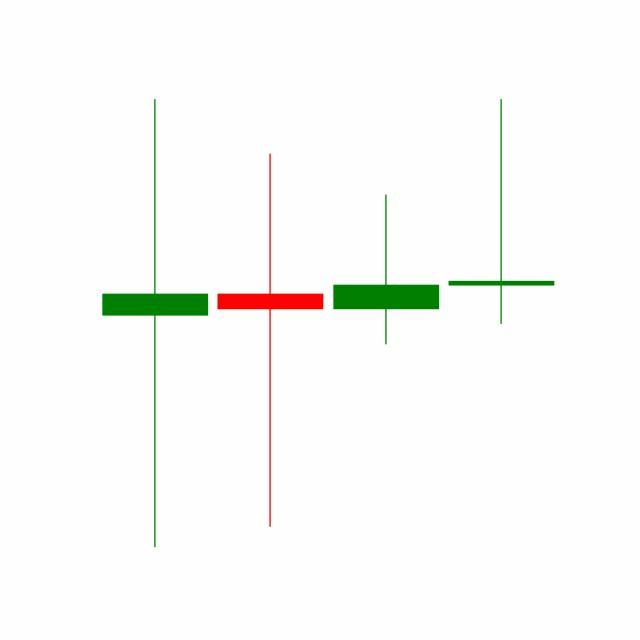Gravestone Doji: (329, 194, 445, 347)
